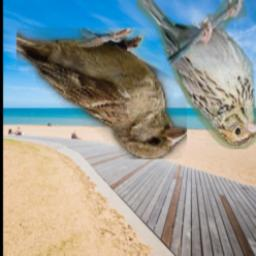Sparrow: (18, 28, 188, 159), (137, 0, 256, 150)
